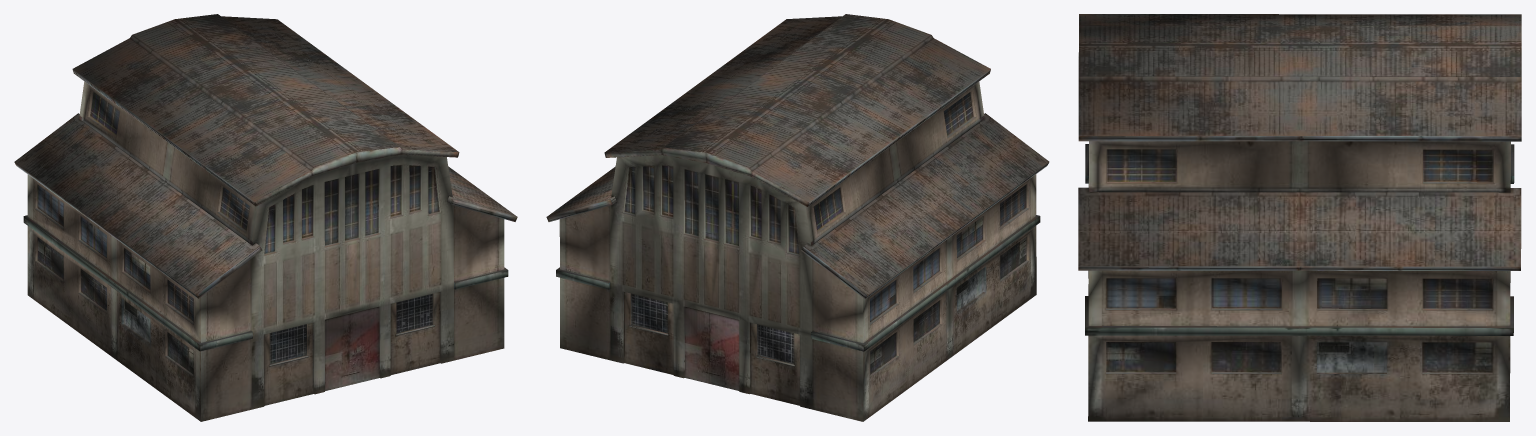
The model's file is a09_warehouse_b.glb.
3 renders of one model, left to right at view 1: azimuth 30°, elevation 25°; view 2: azimuth 150°, elevation 25°; view 3: azimuth 270°, elevation 25°, orthographic. The views are drawn at different scales.
Parts seen in each view (by area): view 1: body; view 2: body; view 3: body.
Boxes of the visible parts, x1,y1,x2,y2 form: body: (14,14,517,421); body: (546,14,1049,421); body: (1078,14,1521,421).
Bounding box in the file's own units: 1 × 0.7024 × 0.9827.
Materials: 1 (1 with a texture image).
